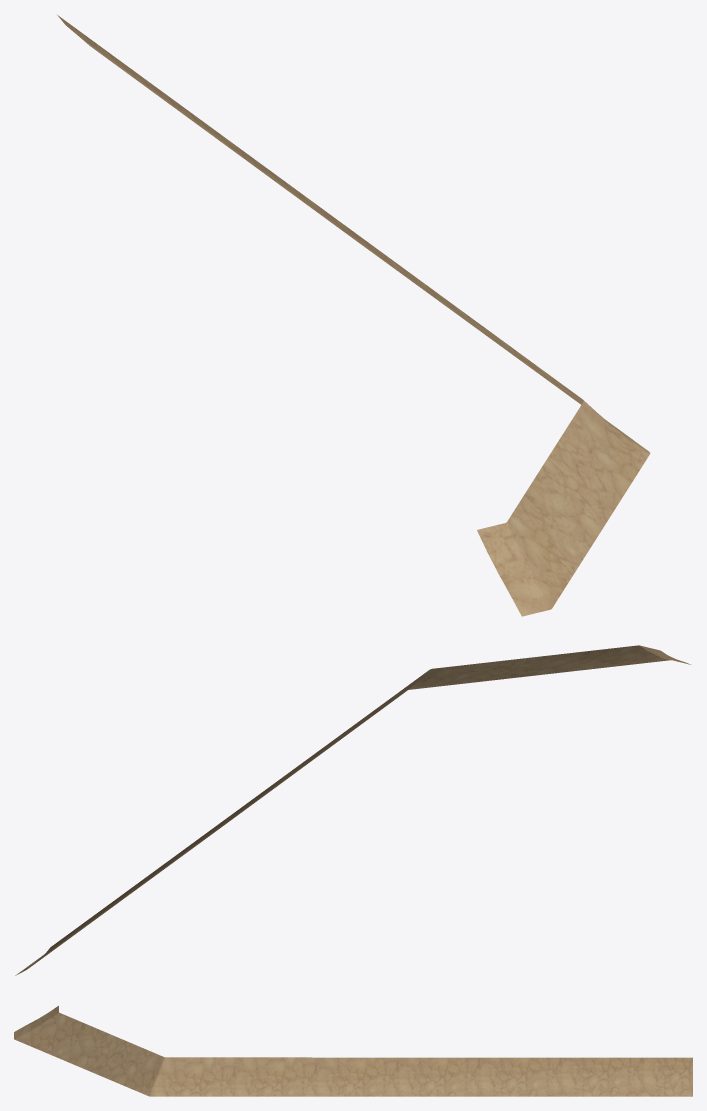
The model's file is SM_ENV_LKNVLD_Ground_Hill_Right_HillSide_02.FBX.
The picture shows the model from 3 angles, top to bottom: view 1: azimuth 30°, elevation 25°; view 2: azimuth 150°, elevation 25°; view 3: azimuth 270°, elevation 25°; orthographic projection. The views are drawn at different scales.
Parts seen in each view (by area): view 1: SM_ENV_LKNVLD_Ground_Hill_Right_HillSide_02; view 2: SM_ENV_LKNVLD_Ground_Hill_Right_HillSide_02; view 3: SM_ENV_LKNVLD_Ground_Hill_Right_HillSide_02.
Part boxes in pixels (x1,y1,x2,y2): SM_ENV_LKNVLD_Ground_Hill_Right_HillSide_02: (57, 15, 650, 616); SM_ENV_LKNVLD_Ground_Hill_Right_HillSide_02: (15, 645, 691, 975); SM_ENV_LKNVLD_Ground_Hill_Right_HillSide_02: (14, 1005, 692, 1096).
Size of the model in its own units: 2644 by 512 by 11750.
